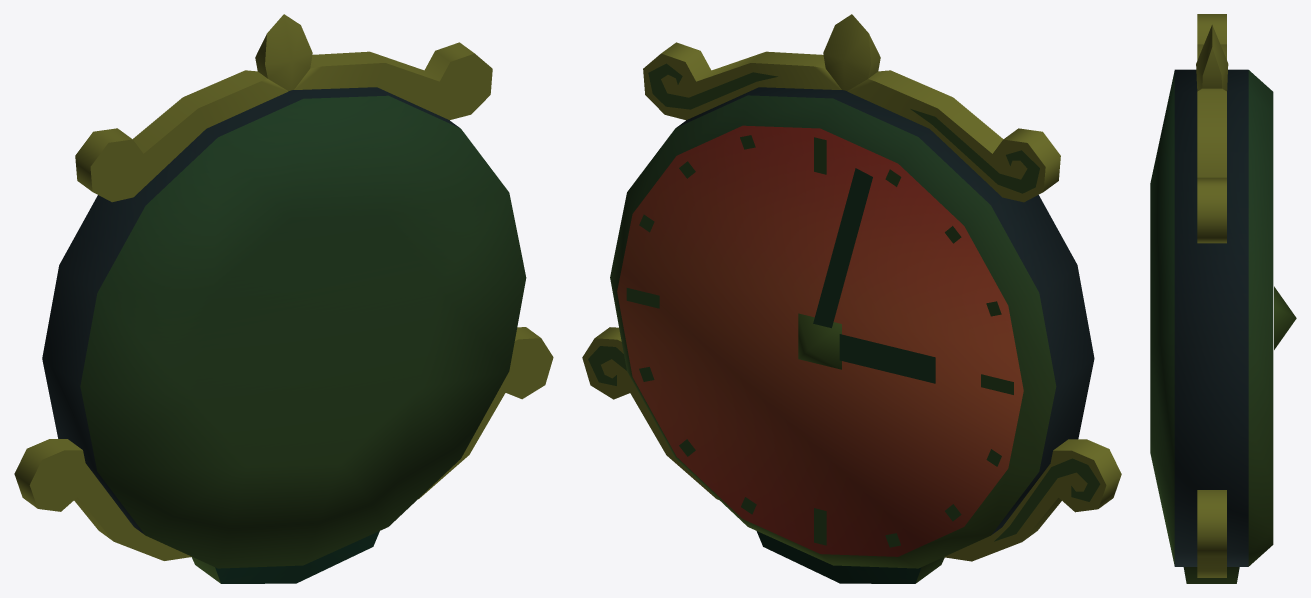
Rendered from x_parkour_cuckooclock.fbx.
3 renders of one model, left to right at view 1: azimuth 30°, elevation 25°; view 2: azimuth 150°, elevation 25°; view 3: azimuth 270°, elevation 25°, orthographic. The views are drawn at different scales.
Visible parts, largest first — view 1: x_parkour_cuckooclock; view 2: x_parkour_cuckooclock; view 3: x_parkour_cuckooclock.
Boxes of the visible parts, x1,y1,x2,y2 form: x_parkour_cuckooclock: (14, 14, 553, 583); x_parkour_cuckooclock: (582, 14, 1121, 583); x_parkour_cuckooclock: (1150, 14, 1296, 583).
Size of the model in its own units: 3.99 by 4.09 by 1.
